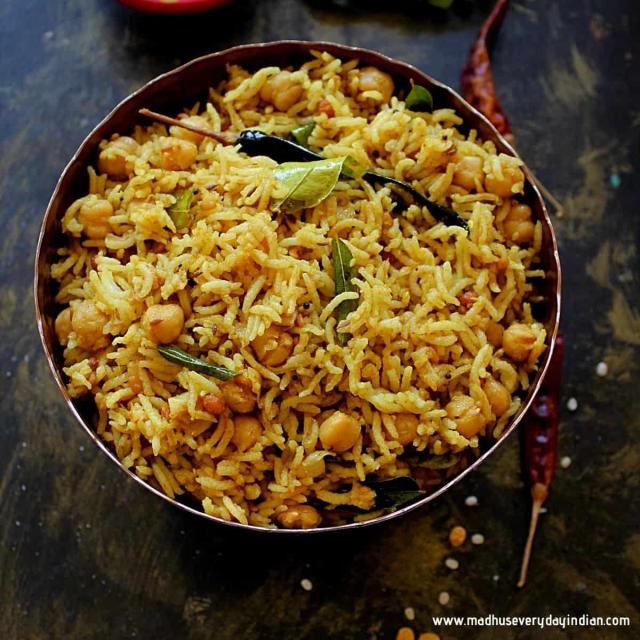puliyogare: (36, 36, 565, 545)
